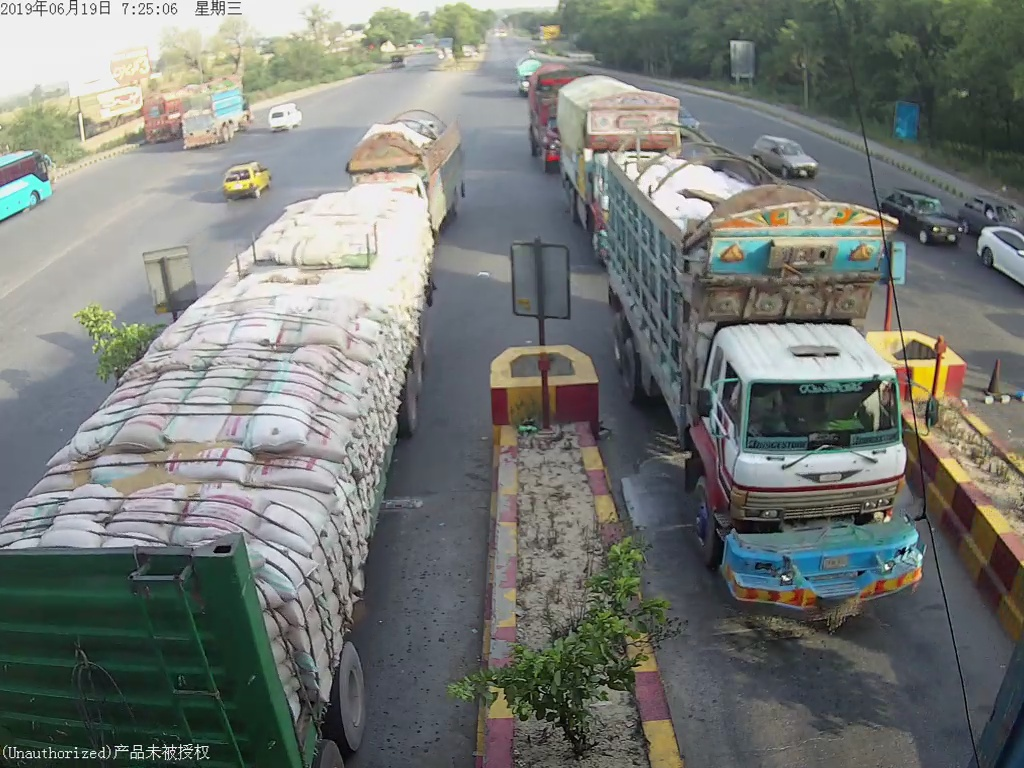Cat-4: (612, 124, 936, 619)
